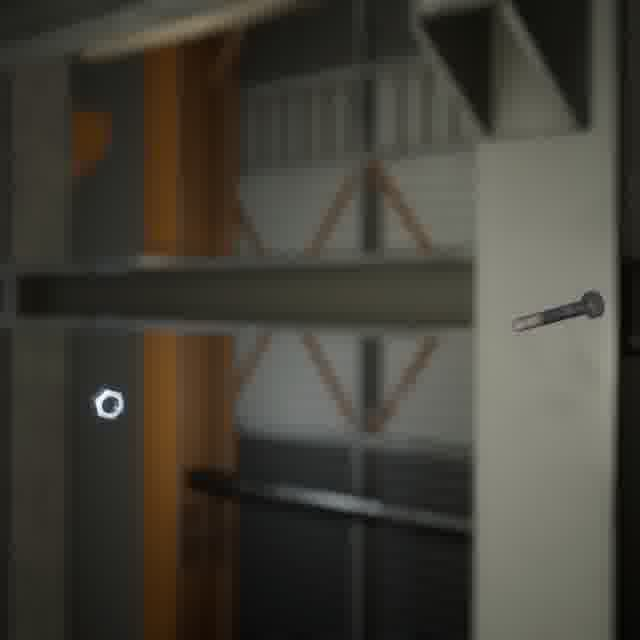bolt: (507, 286, 608, 336)
nut: (87, 382, 130, 424)
